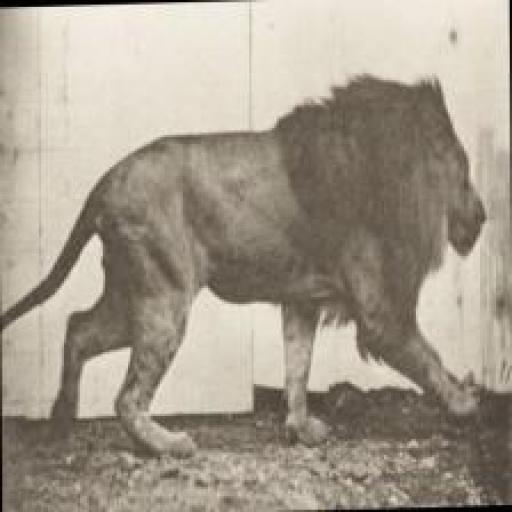lion: (0, 68, 490, 458)
